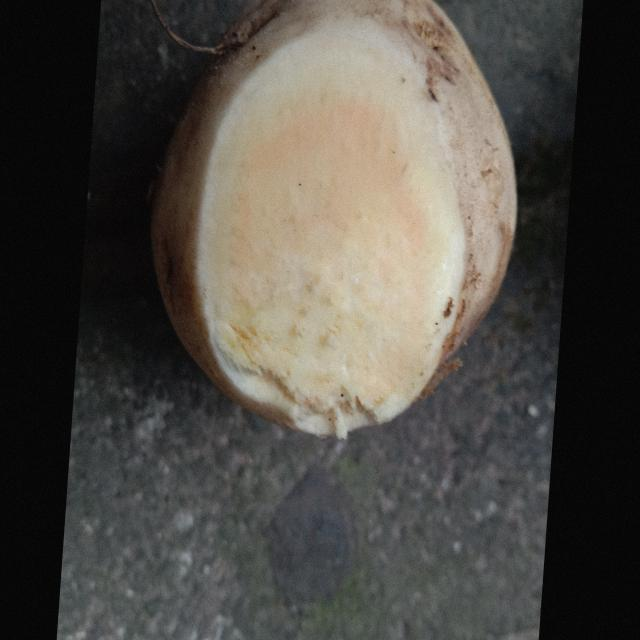Healthy Sweet Potato: (196, 20, 465, 437)
